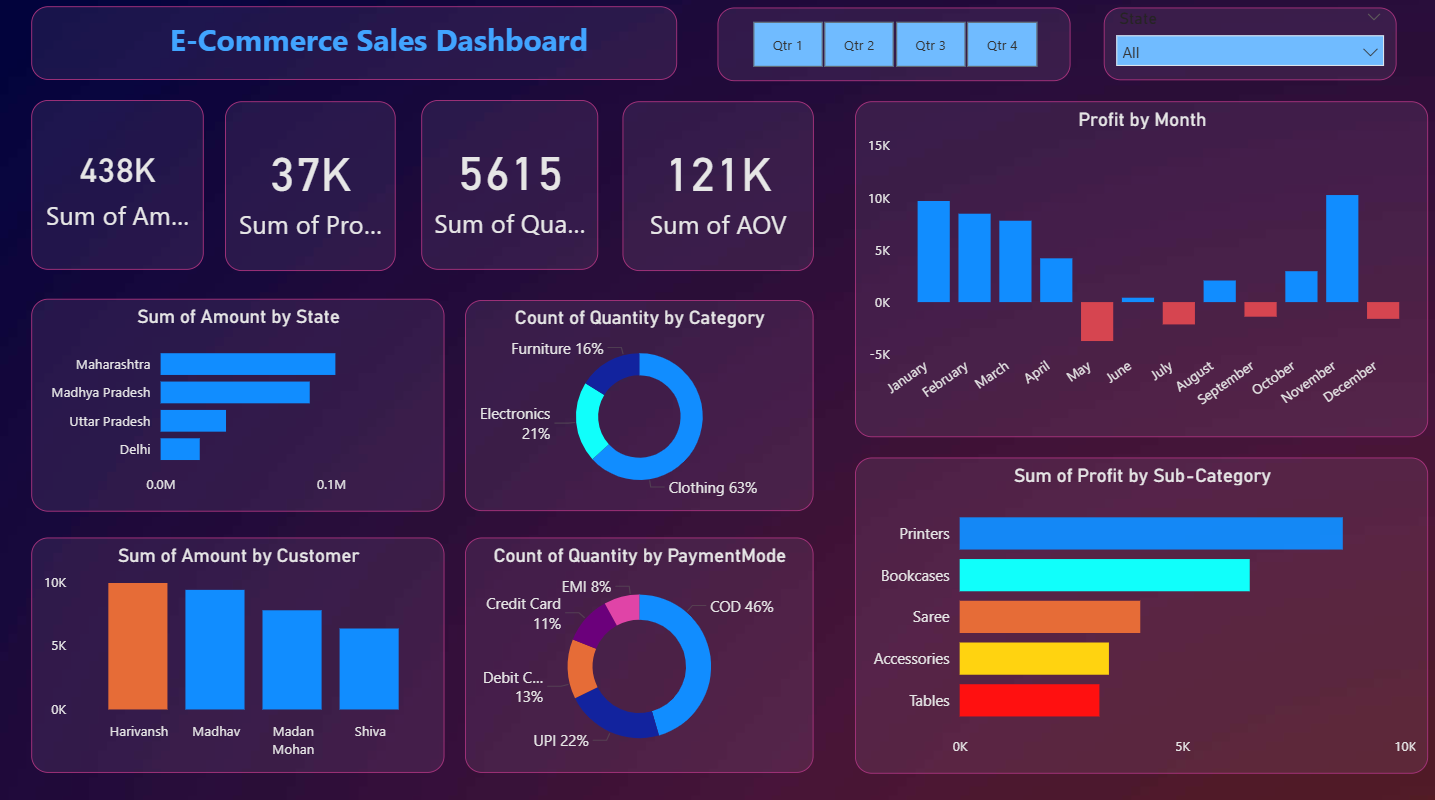

The dashboard page shown, as its layout file describes it:
{"tool":"powerbi","page":{"name":"Page 1","canvas":[1280,720],"ordinal":0},"visuals":[{"type":"textbox","box":[27.4,9.6,575,65.9],"z":0},{"type":"columnChart","title":"Profit by Month","fields":{"Category":["Orders.Order Date.Variation.Date Hierarchy.Month"],"Y":["Details.Profit"]},"box":[761.6,94.7,510.5,299.1],"z":1000},{"type":"barChart","fields":{"Category":["Details.Sub-Category"],"Y":["Details.Profit"]},"box":[761.6,411.7,510.5,281.3],"z":2000},{"type":"donutChart","fields":{"Category":["Details.Category"],"Y":["Details.Quantity"]},"box":[414.4,271.7,310.1,188],"z":3000},{"type":"donutChart","fields":{"Y":["Details.Quantity"],"Category":["Details.PaymentMode"]},"box":[414.4,483,310.1,209.9],"z":4000},{"type":"card","fields":{"Values":["Details.Amount"]},"box":[27.4,93.3,153.7,150.9],"z":5000},{"type":"card","fields":{"Values":["Details.Quantity"]},"box":[374.6,93.3,157.8,150.9],"z":6000},{"type":"card","fields":{"Values":["Details.Profit"]},"box":[200.3,94.7,152.3,150.9],"z":7000},{"type":"card","fields":{"Values":["Details.AOV"]},"box":[554.4,94.7,170.2,150.9],"z":8000},{"type":"barChart","fields":{"Category":["Orders.State"],"Y":["Details.Amount"]},"box":[27.4,270.3,367.8,189.4],"z":9000},{"type":"columnChart","fields":{"Category":["Orders.Customer"],"Y":["Details.Amount"]},"box":[27.4,483,367.8,209.9],"z":10000},{"type":"slicer","fields":{"Values":["Orders.State"]},"box":[982.5,11,260.7,64.5],"z":11000},{"type":"slicer","fields":{"Values":["Orders.Order Date.Variation.Date Hierarchy.Quarter"]},"box":[639.5,11,314.2,65.9],"z":13000}]}

Visuals, with their boxes in screenshot pixels (x1, y1, x2, y2), scaled from the page's 1280x720 canvas onto the 1435x800 screenshot:
textbox: bbox=(31, 11, 675, 84)
"Profit by Month" columnChart: bbox=(854, 105, 1426, 438)
barChart - Details.Sub-Category x Details.Profit: bbox=(854, 457, 1426, 770)
donutChart - Details.Category x Details.Quantity: bbox=(465, 302, 812, 511)
donutChart - Details.Quantity x Details.PaymentMode: bbox=(465, 537, 812, 770)
card - Details.Amount: bbox=(31, 104, 203, 271)
card - Details.Quantity: bbox=(420, 104, 597, 271)
card - Details.Profit: bbox=(225, 105, 395, 273)
card - Details.AOV: bbox=(622, 105, 812, 273)
barChart - Orders.State x Details.Amount: bbox=(31, 300, 443, 511)
columnChart - Orders.Customer x Details.Amount: bbox=(31, 537, 443, 770)
slicer - Orders.State: bbox=(1101, 12, 1394, 84)
slicer - Orders.Order Date.Variation.Date Hierarchy.Quarter: bbox=(717, 12, 1069, 85)
